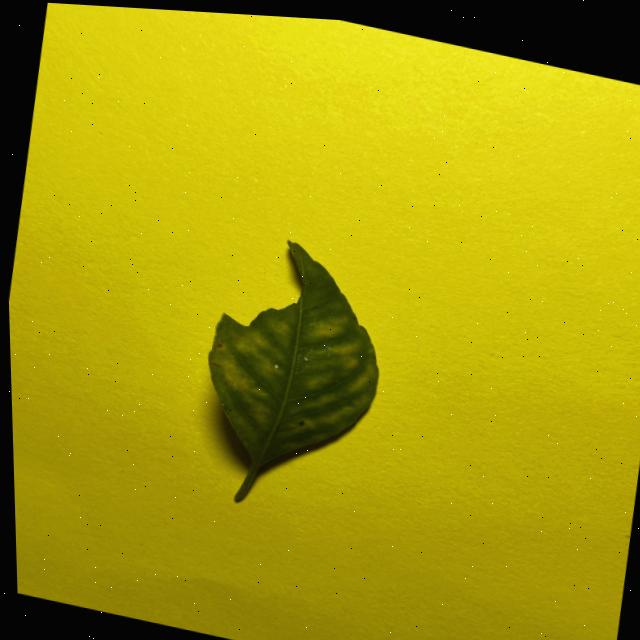greening: (208, 240, 377, 500)
